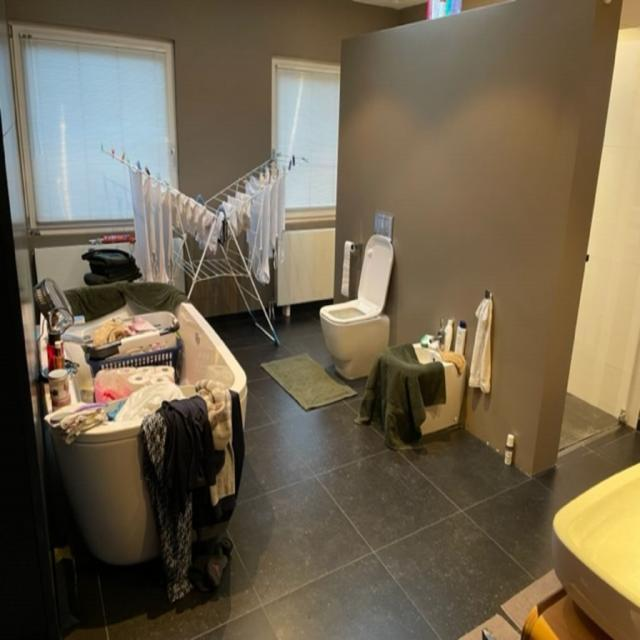bath: (34, 280, 249, 564)
douche: (533, 0, 640, 477)
toilet: (320, 210, 396, 382), (380, 316, 468, 438)
wastafel: (553, 463, 640, 639), (458, 568, 614, 640)
